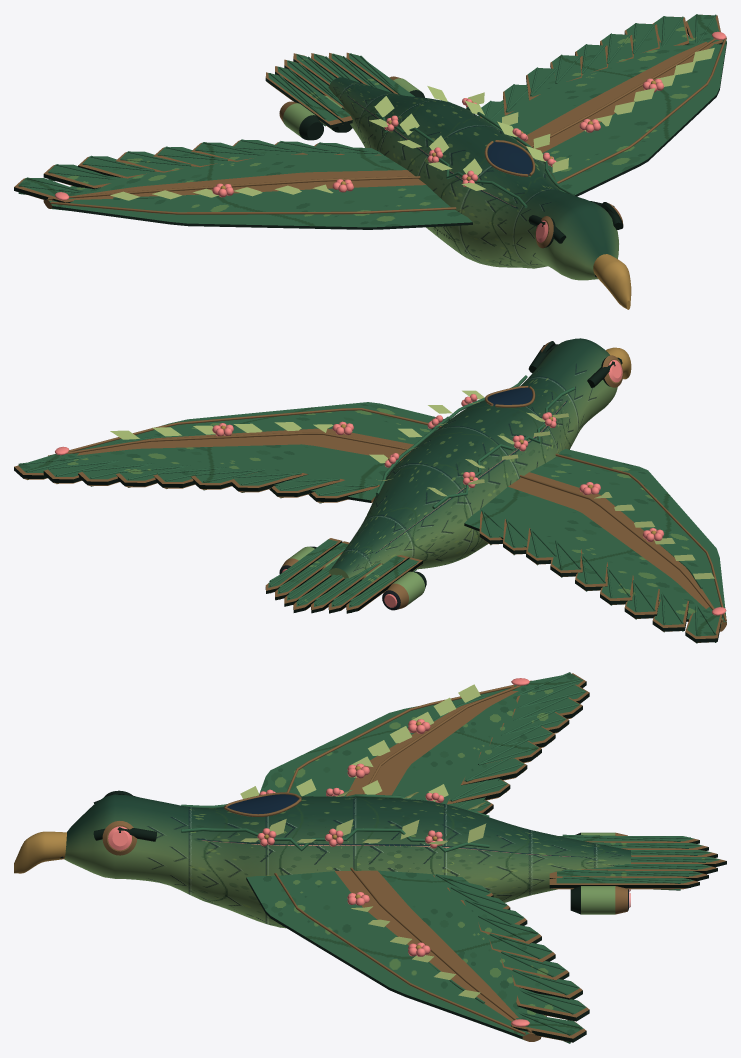
3 renders of one model, top to bottom at view 1: azimuth 30°, elevation 25°; view 2: azimuth 150°, elevation 25°; view 3: azimuth 270°, elevation 25°, orthographic. The views are drawn at different scales.
Parts seen in each view (by area): view 1: falcon_hull; view 2: falcon_hull; view 3: falcon_hull.
Part boxes in pixels (x1,y1,x2,y2): falcon_hull: (14,14,726,309); falcon_hull: (14,338,726,643); falcon_hull: (14,672,726,1043).
Bounding box in the file's own units: 68 × 10.83 × 56.07.
1 material, 1 textured.
